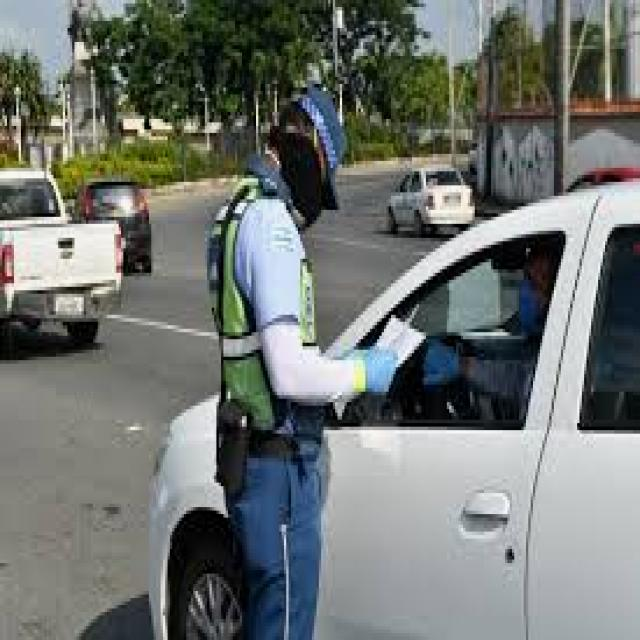CMT: (0, 167, 119, 360)
